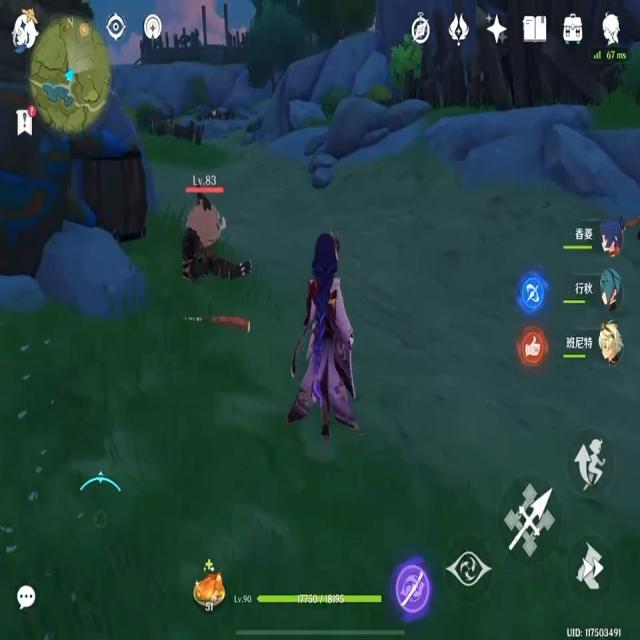genshin-hilichurls: (184, 196, 252, 279)
